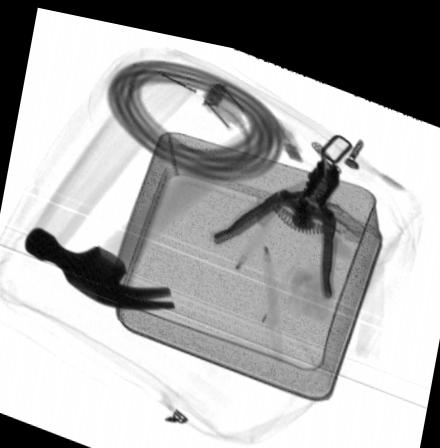Hammer: (23, 105, 288, 304)
Pliers: (211, 142, 339, 288)
